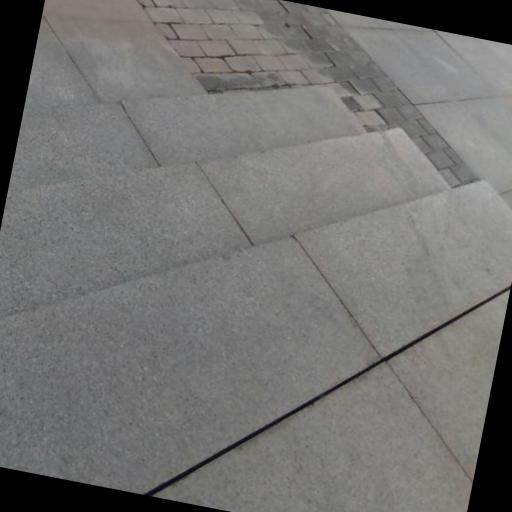stairs: (0, 89, 511, 493)
